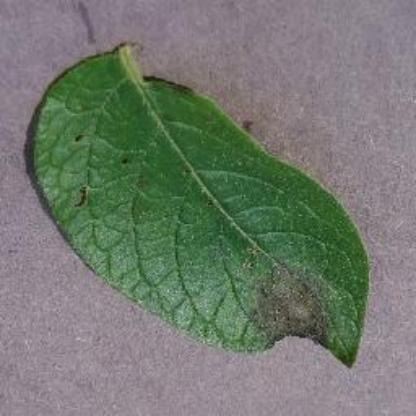Late-Blight: (27, 42, 374, 370)
